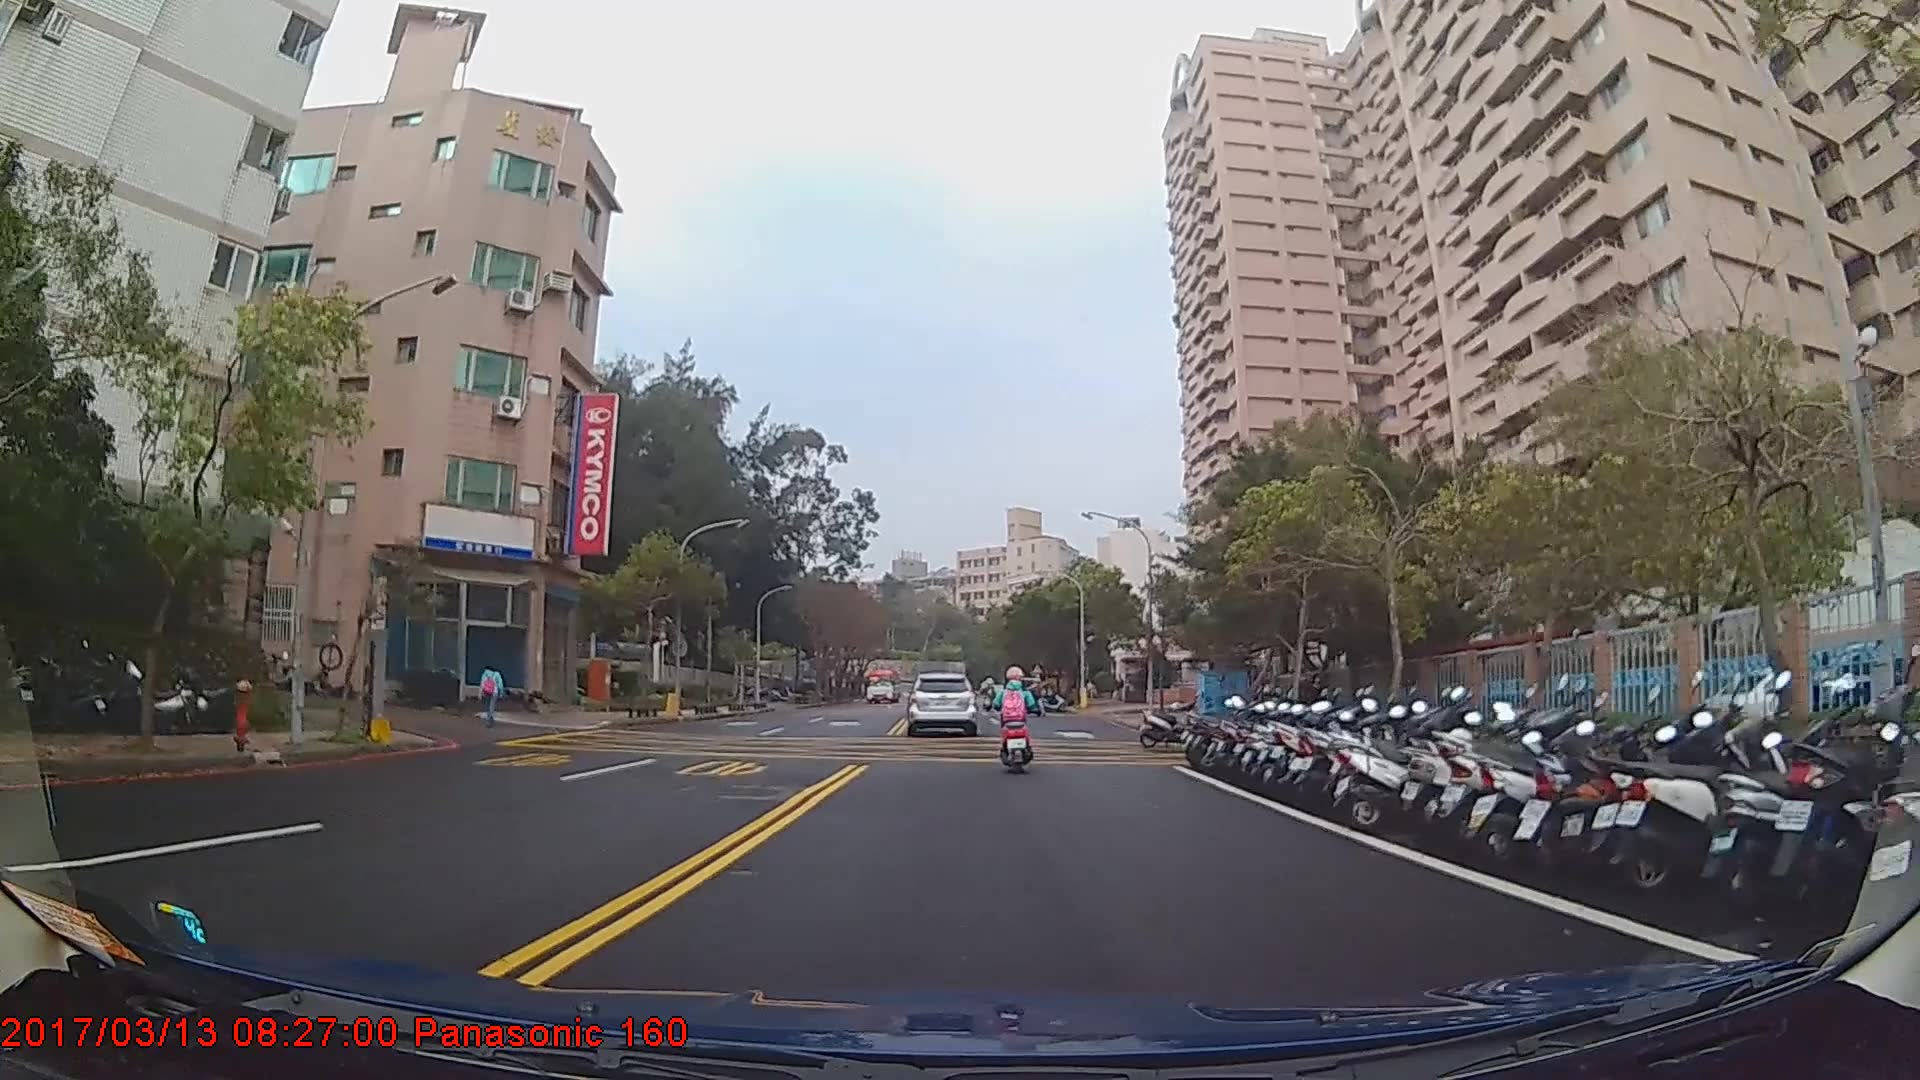pedestrian: (480, 658, 506, 730)
rider: (989, 664, 1039, 783)
vehicle: (906, 669, 975, 735), (861, 666, 902, 704)
